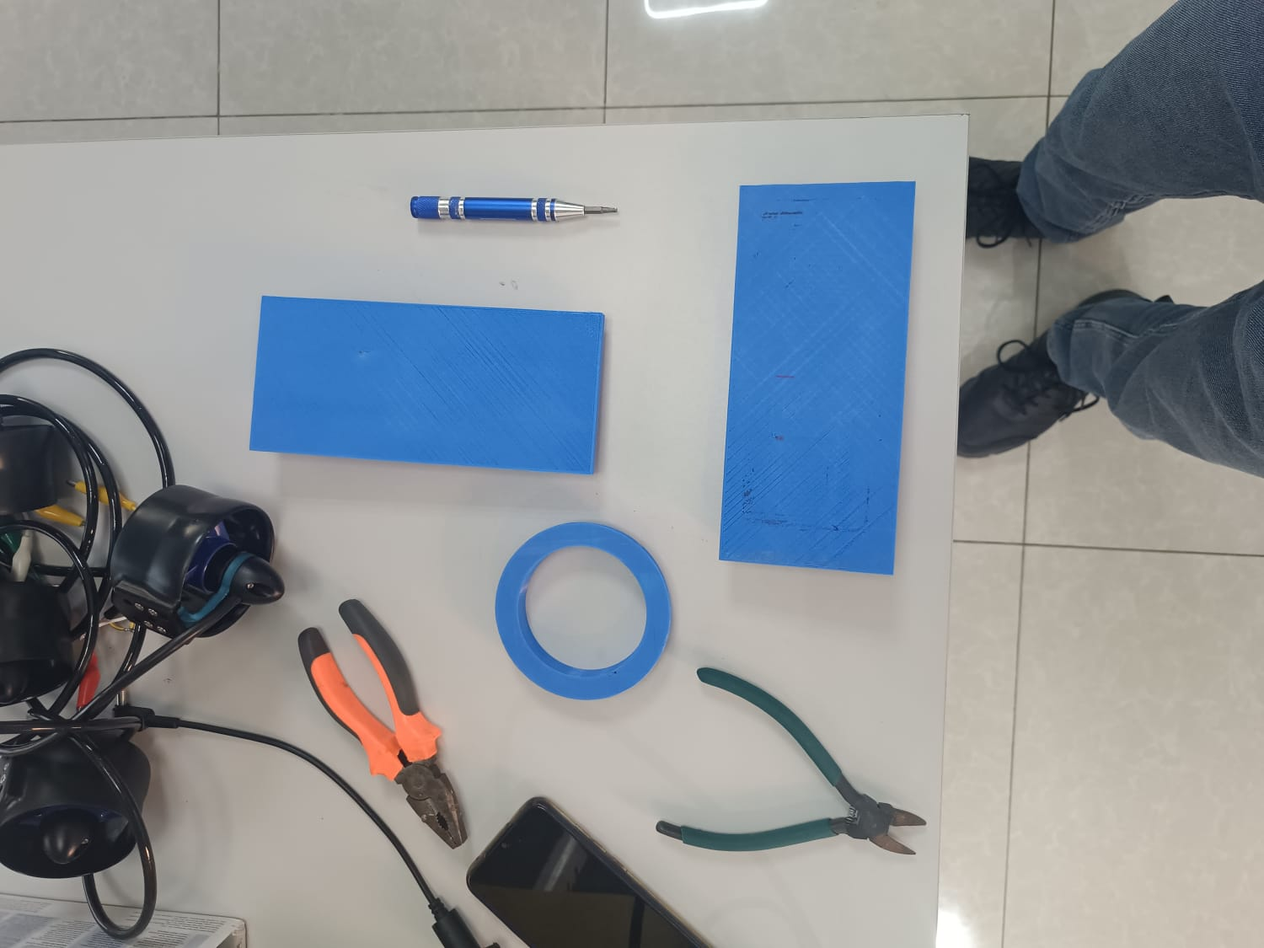Circle: (488, 516, 679, 708)
Rectangular: (712, 174, 922, 578), (243, 288, 609, 484)
